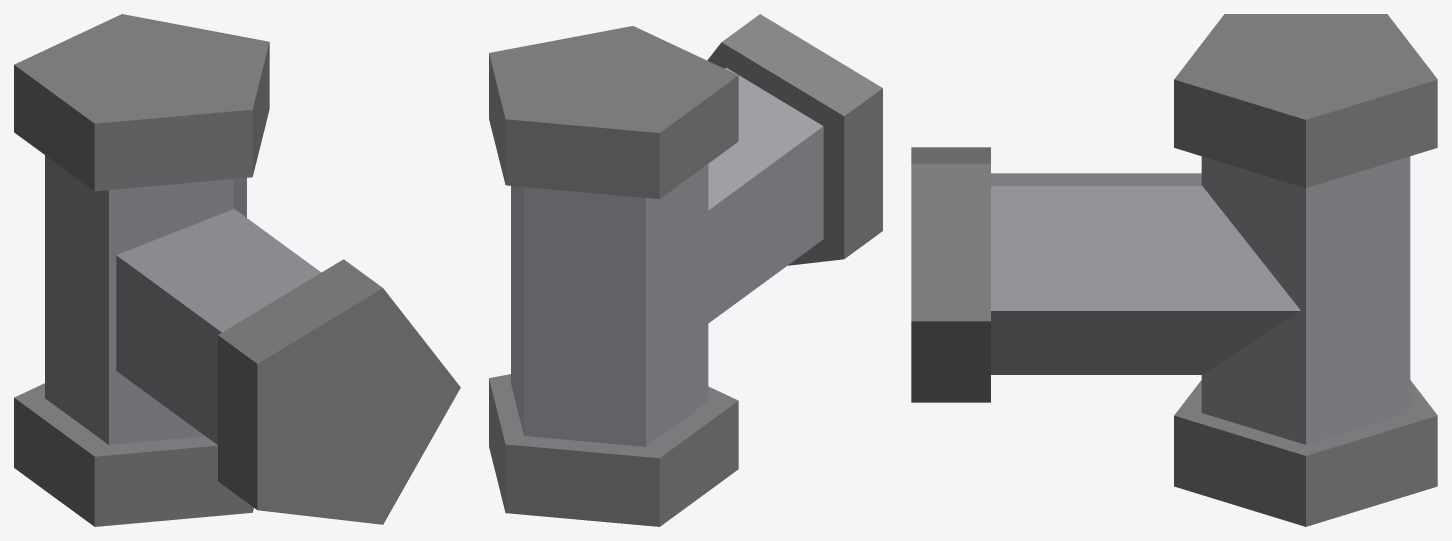
The model's file is TuberiaChica_Conexion.fbx.
3 renders of one model, left to right at view 1: azimuth 30°, elevation 25°; view 2: azimuth 150°, elevation 25°; view 3: azimuth 270°, elevation 25°, orthographic. The views are drawn at different scales.
Visible parts, largest first — view 1: ConexionTuberias; view 2: ConexionTuberias; view 3: ConexionTuberias.
Boxes of the visible parts, x1,y1,x2,y2 form: ConexionTuberias: [14, 14, 460, 526]; ConexionTuberias: [489, 14, 882, 526]; ConexionTuberias: [911, 14, 1437, 526].
Size of the model in its own units: 0.3698 by 0.6623 by 0.7766.
